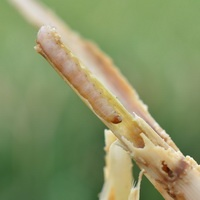insect: (36, 26, 199, 199)
